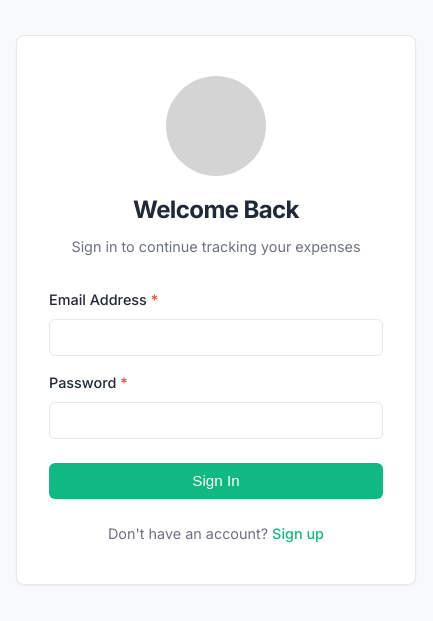
Test case: Signin Component › handles signin error
This screenshot has width=433, height=621.
In the field labelled "Email Address *": (216, 337) [49,319,383,356], type "test@example.com"
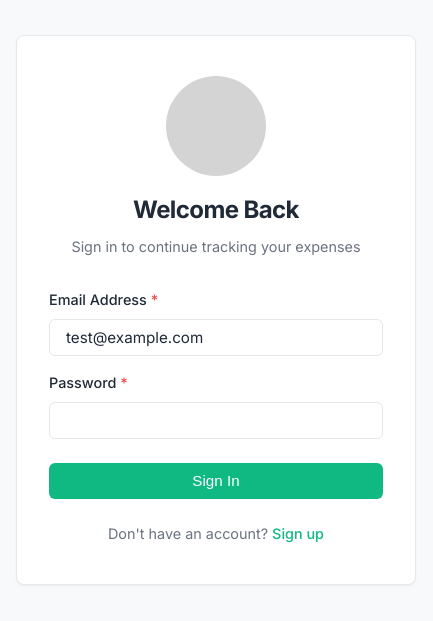
In the password field labelled "Password *": (216, 420) [49,402,383,438], type "wrongpass"
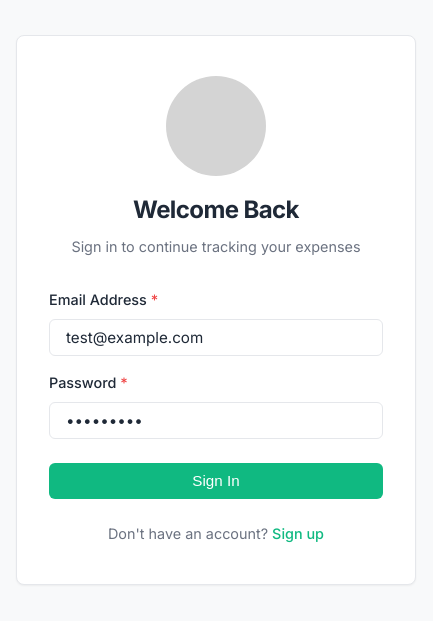
Click the button "Sign In": (216, 481) [49,462,383,499]
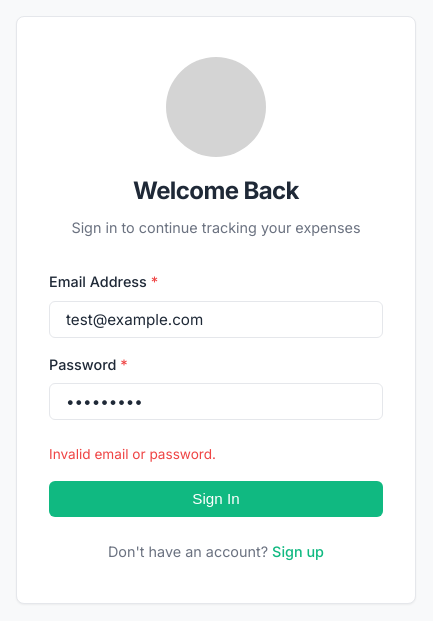
Expected: the text "Invalid email or password." is shown, [49,446,216,462]
